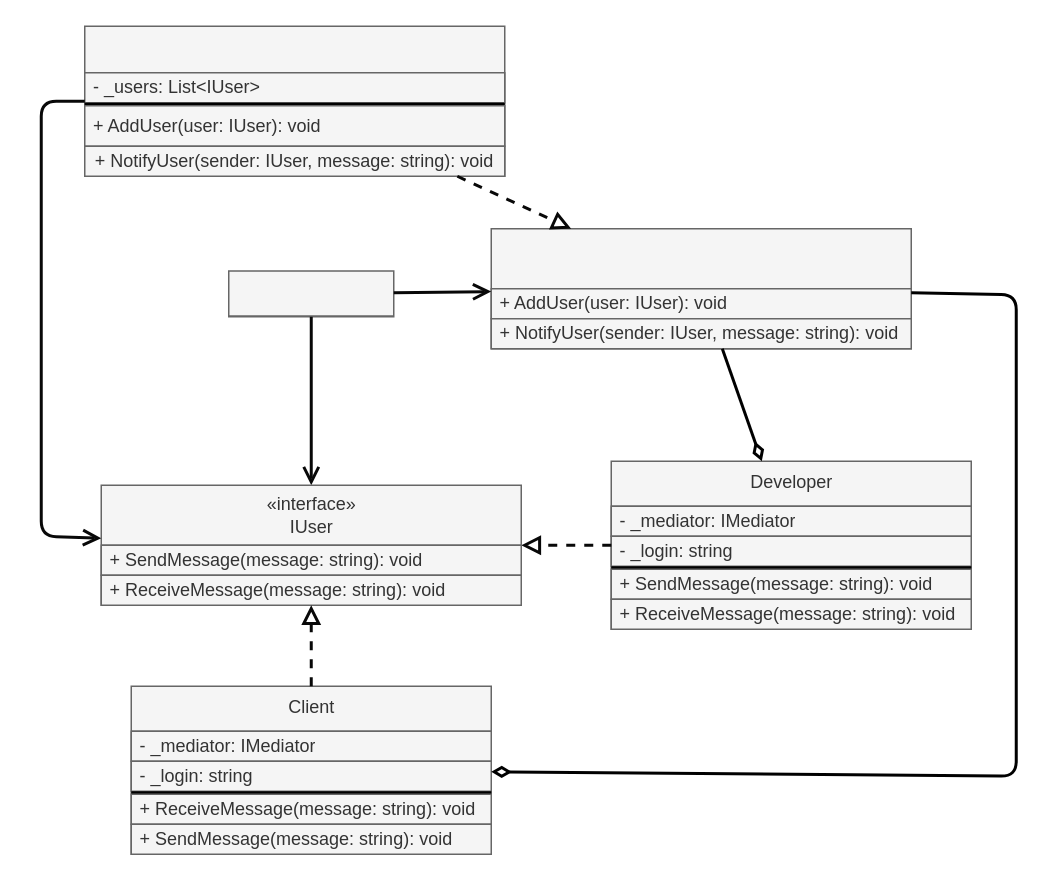
This 1058x881 diagram has some shape labels left out. The shapes that lost their labels are listed below. From the top down, each one's box as (x1, y1, x2, y2) in pixels, then its label:
(83, 25, 505, 176): ChatMediator
(227, 270, 394, 317): Program
(490, 227, 911, 349): «interface» IMediator
